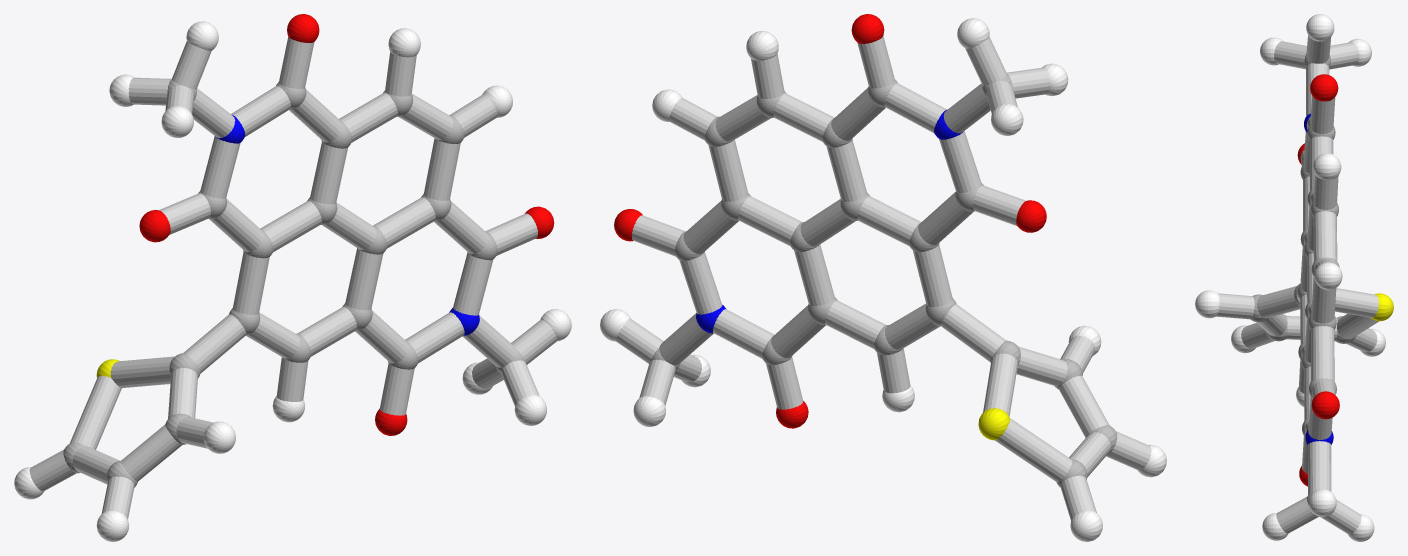
The model's file is Dimethyl_Naphthalene_Dicarboximide_Phi_15_Theta_270_Thiophene.glb.
The picture shows the model from 3 angles, left to right: view 1: azimuth 30°, elevation 25°; view 2: azimuth 150°, elevation 25°; view 3: azimuth 270°, elevation 25°; orthographic projection. The views are drawn at different scales.
Parts seen in each view (by area): view 1: grp14119, grp7241, grp1, grp12309, grp11585; view 2: grp14119, grp7241, grp1, grp12309, grp13757, grp11585; view 3: grp14119, grp7241, grp1, grp12309, grp13757.
Boxes of the visible parts, x1,y1,x2,y2 form: grp14119: (29, 37, 557, 518); grp7241: (14, 21, 571, 541); grp1: (63, 80, 525, 487); grp12309: (139, 14, 554, 435); grp11585: (215, 115, 479, 335); grp14119: (615, 36, 1151, 520); grp7241: (600, 18, 1166, 541); grp1: (650, 74, 1117, 487); grp12309: (614, 14, 1046, 428); grp13757: (978, 408, 1010, 440); grp11585: (696, 109, 962, 333); grp14119: (1216, 35, 1378, 534); grp7241: (1195, 14, 1385, 541); grp1: (1250, 53, 1355, 516); grp12309: (1297, 74, 1339, 486); grp13757: (1371, 293, 1393, 321).
Size of the model in its own units: 11.18 by 9.41 by 4.23.
